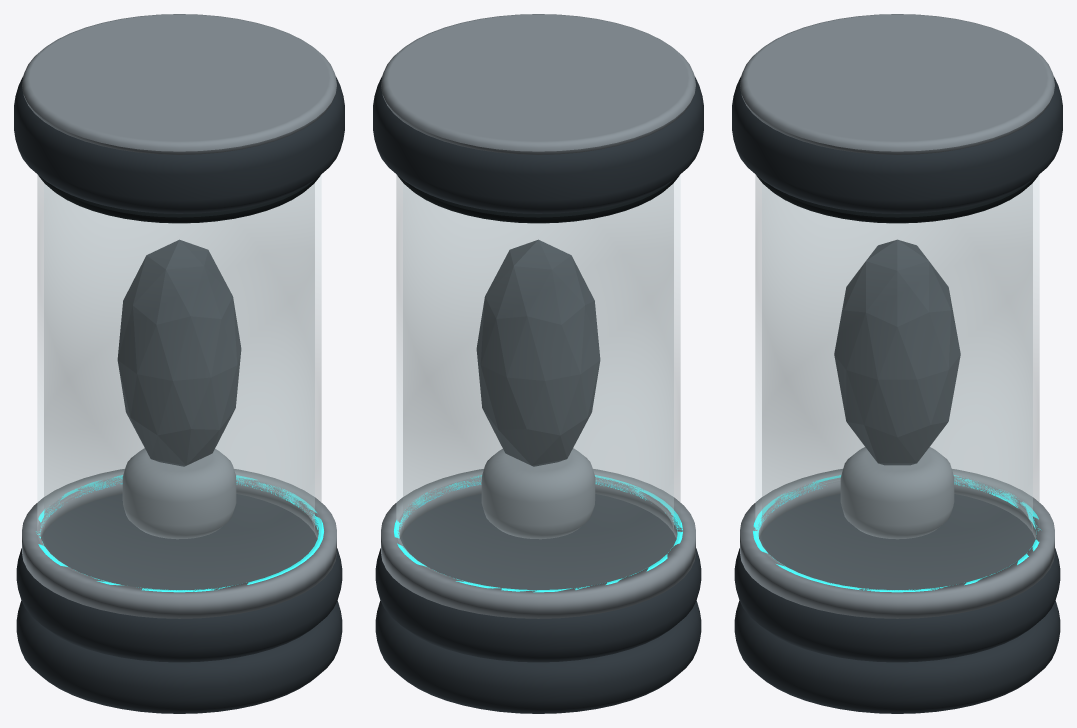
The model's file is ZH_PROP_LAB_SampleJar_Intact.fbx.
3 views of the same model, side by side, from view 1: azimuth 30°, elevation 25°; view 2: azimuth 150°, elevation 25°; view 3: azimuth 270°, elevation 25° (orthographic).
Visible parts, largest first — view 1: Jar | glass.001, Jar | rim.001, Jar | base ring.005, Jar | dark sample.001, Jar | cap.001, Jar | base ring.004, Jar | base lip.002, Jar | specimen pedestal.001, Jar | seal.001, Jar | indicator.002; view 2: Jar | glass.001, Jar | rim.001, Jar | base ring.005, Jar | dark sample.001, Jar | cap.001, Jar | base ring.004, Jar | base lip.002, Jar | specimen pedestal.001, Jar | seal.001, Jar | indicator.002; view 3: Jar | glass.001, Jar | rim.001, Jar | base ring.005, Jar | dark sample.001, Jar | cap.001, Jar | base ring.004, Jar | base lip.002, Jar | specimen pedestal.001, Jar | seal.001, Jar | indicator.002.
Part boxes in pixels (left/top/right/bottom): Jar | glass.001: left=37, top=175, right=321, bottom=590; Jar | rim.001: left=22, top=14, right=336, bottom=154; Jar | base ring.005: left=16, top=494, right=342, bottom=662; Jar | dark sample.001: left=117, top=239, right=241, bottom=466; Jar | cap.001: left=14, top=77, right=344, bottom=213; Jar | base ring.004: left=16, top=600, right=342, bottom=713; Jar | base lip.002: left=22, top=469, right=336, bottom=618; Jar | specimen pedestal.001: left=122, top=448, right=236, bottom=539; Jar | seal.001: left=38, top=175, right=320, bottom=223; Jar | indicator.002: left=36, top=475, right=323, bottom=592; Jar | glass.001: left=396, top=175, right=680, bottom=590; Jar | rim.001: left=381, top=14, right=695, bottom=154; Jar | base ring.005: left=375, top=494, right=701, bottom=662; Jar | dark sample.001: left=476, top=239, right=600, bottom=466; Jar | cap.001: left=373, top=77, right=703, bottom=213; Jar | base ring.004: left=375, top=600, right=701, bottom=713; Jar | base lip.002: left=381, top=469, right=695, bottom=618; Jar | specimen pedestal.001: left=481, top=448, right=595, bottom=539; Jar | seal.001: left=397, top=175, right=679, bottom=223; Jar | indicator.002: left=394, top=475, right=682, bottom=592; Jar | glass.001: left=755, top=175, right=1039, bottom=590; Jar | rim.001: left=740, top=14, right=1054, bottom=154; Jar | base ring.005: left=734, top=494, right=1060, bottom=662; Jar | dark sample.001: left=834, top=239, right=960, bottom=465; Jar | cap.001: left=732, top=77, right=1062, bottom=213; Jar | base ring.004: left=734, top=600, right=1060, bottom=713; Jar | base lip.002: left=740, top=469, right=1054, bottom=618; Jar | specimen pedestal.001: left=840, top=447, right=954, bottom=539; Jar | seal.001: left=756, top=175, right=1038, bottom=223; Jar | indicator.002: left=753, top=475, right=1040, bottom=592.
Bounding box in the file's own units: 0.128 × 0.2455 × 0.128.
